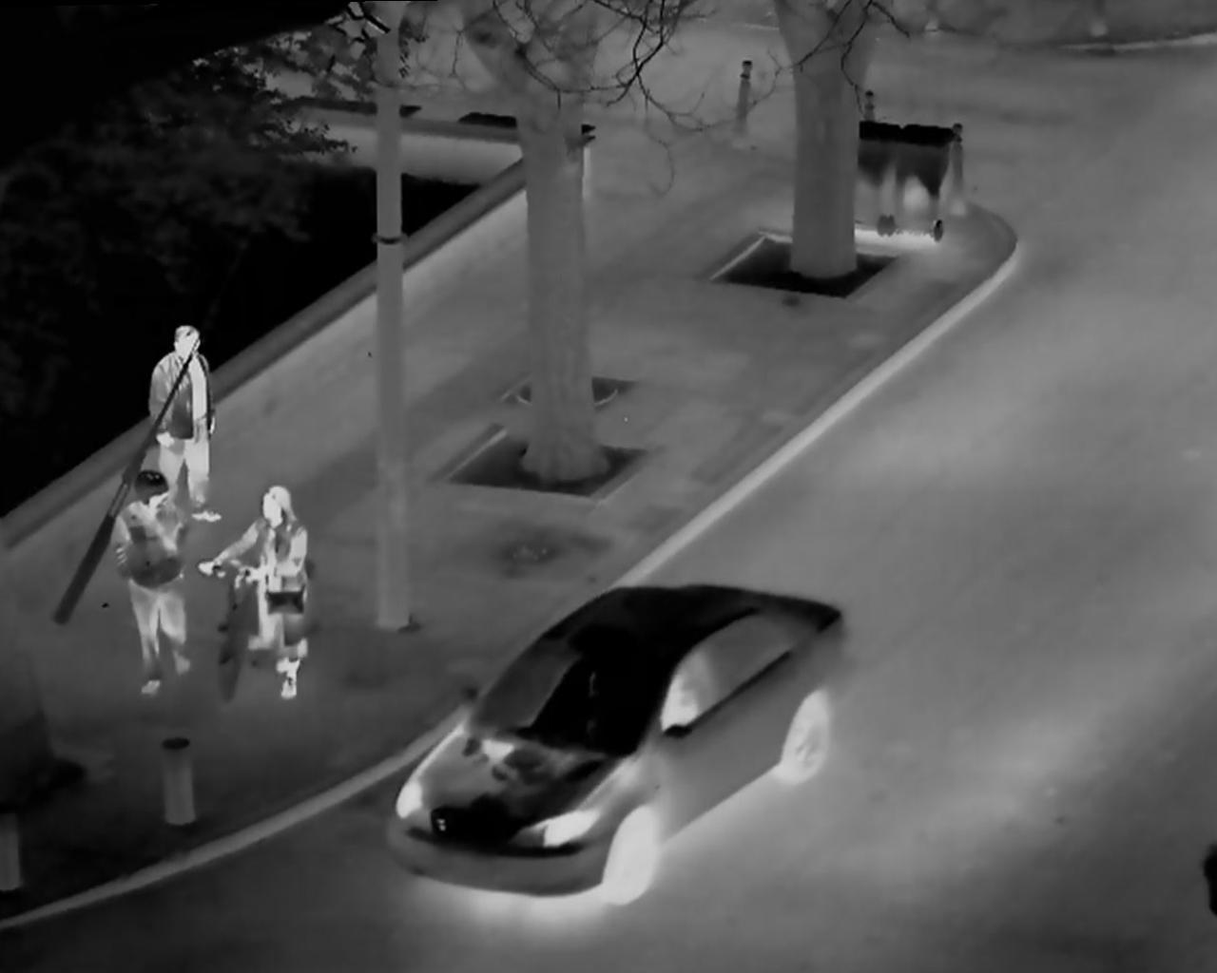person: (202, 471, 334, 723), (100, 471, 201, 699), (140, 316, 232, 528)
